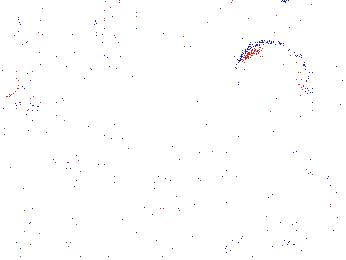moon jellyfish: (12, 17, 120, 91), (231, 44, 308, 129)
